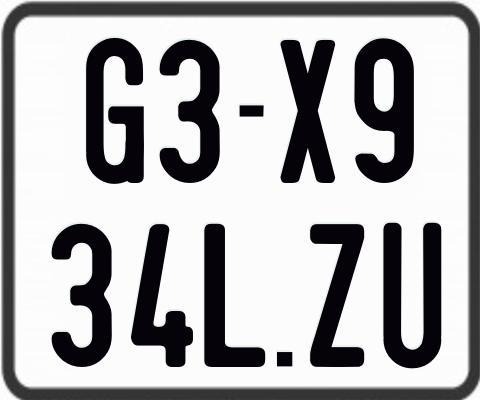3: (159, 40, 225, 187), (49, 223, 109, 366)
4: (131, 221, 199, 366)
9: (353, 37, 414, 187)
G: (83, 36, 142, 186)
L: (204, 224, 265, 368)
U: (380, 220, 442, 370)
X: (280, 39, 337, 184)
Z: (310, 223, 369, 371)
